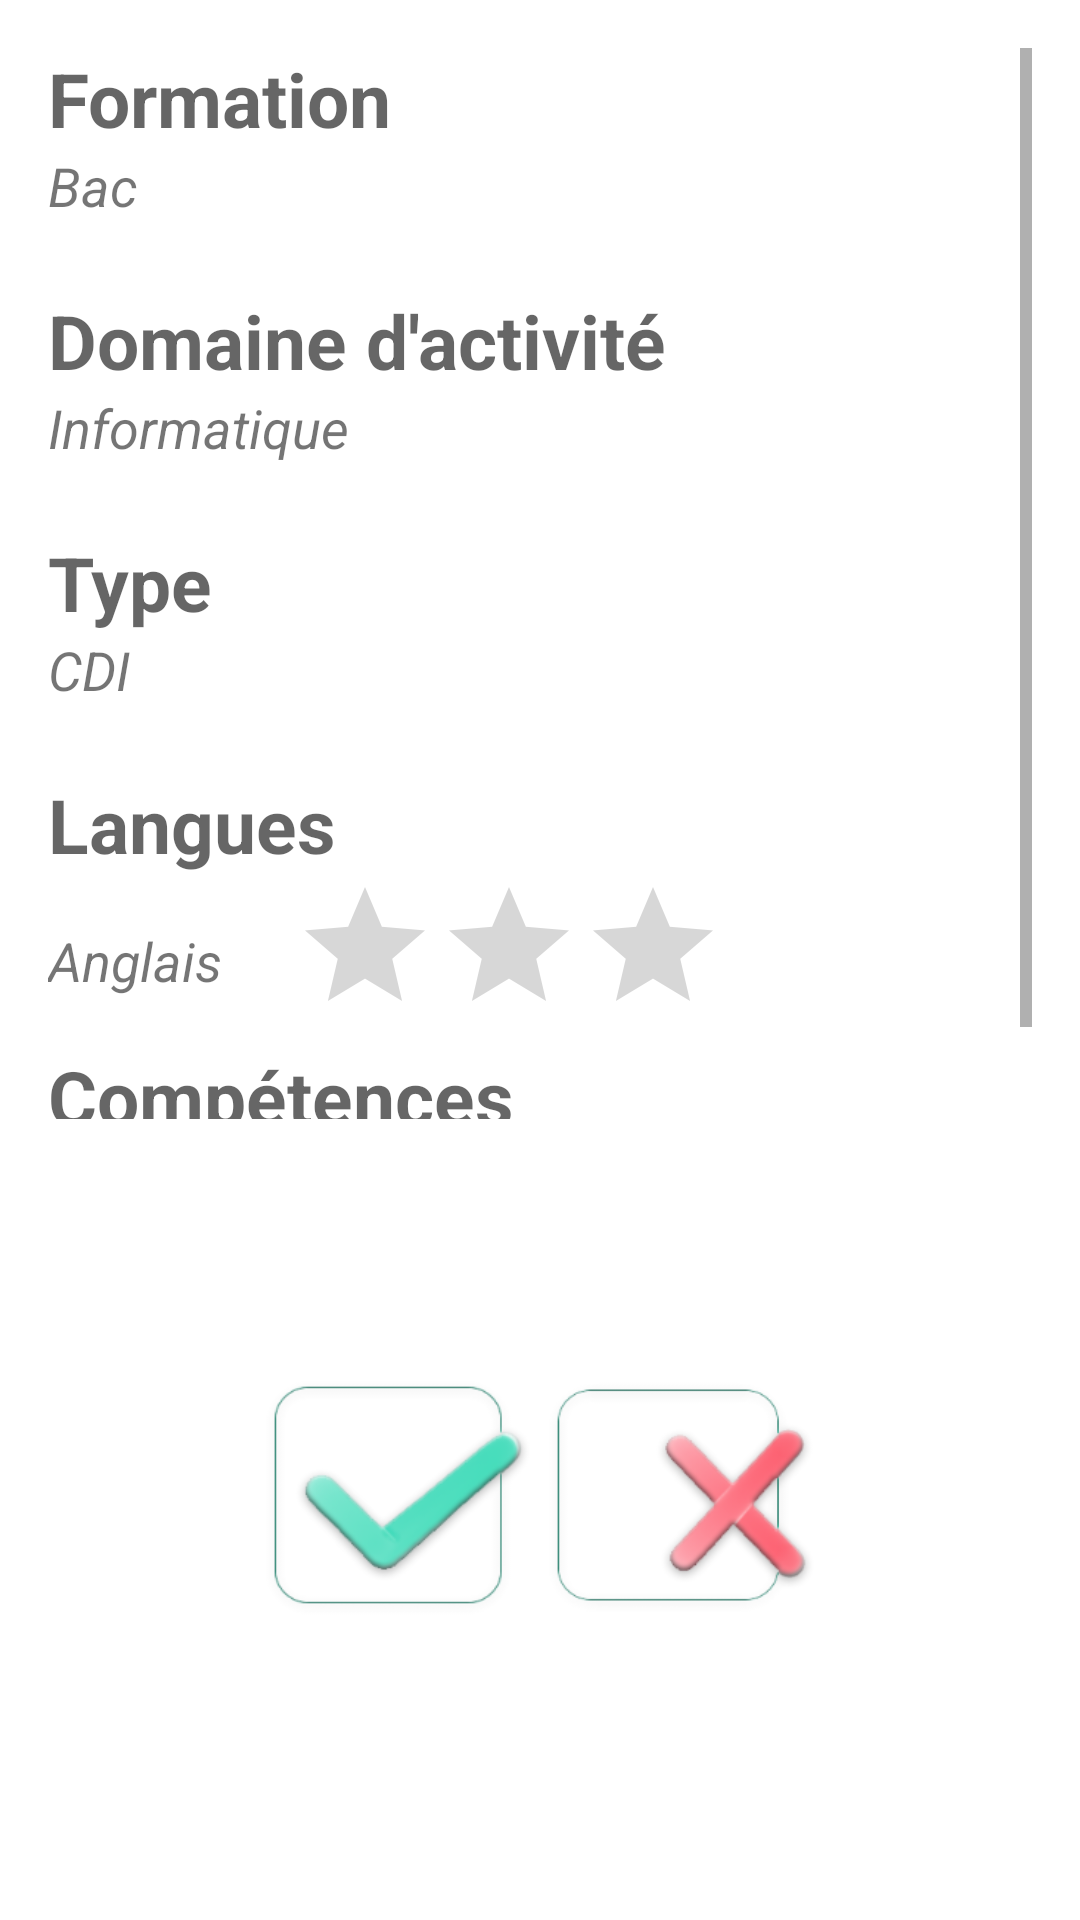

Icons on this 1080x1920 Android screen, each with its box as (x1, y1, x2, y2):
yes: (274, 1386, 523, 1604)
